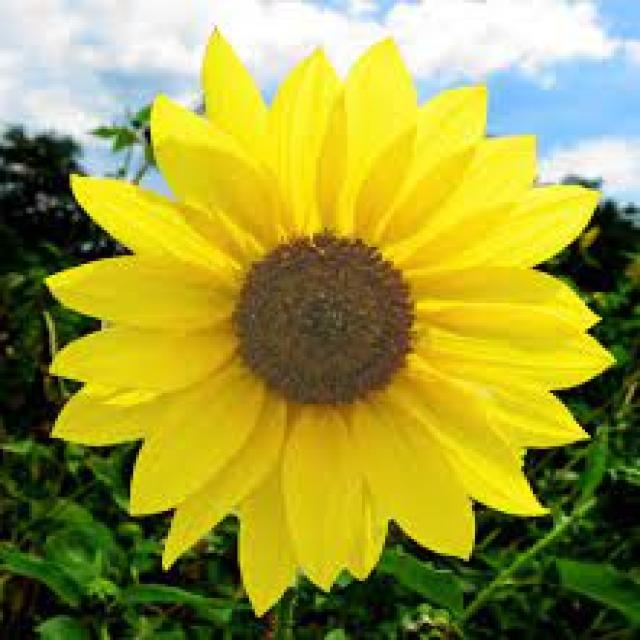sunflower: (40, 17, 624, 622)
